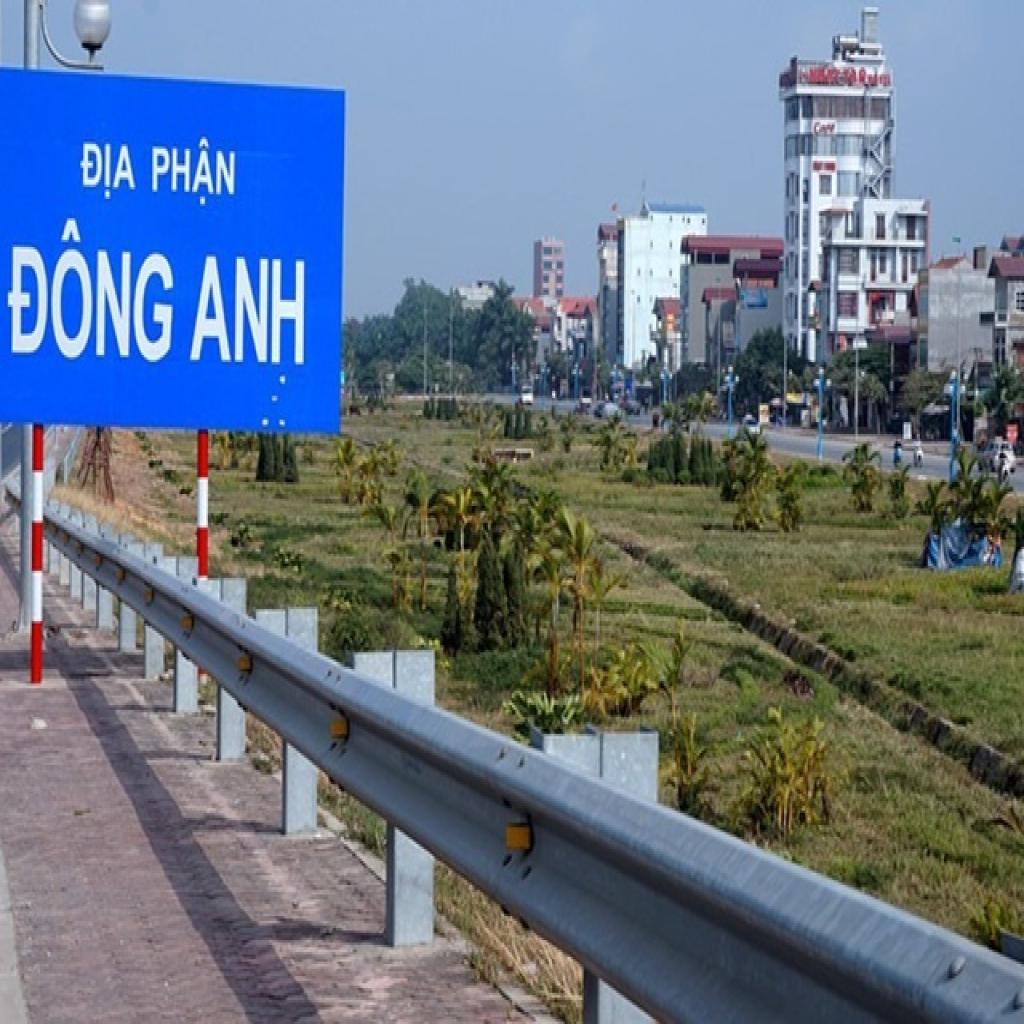text: (2, 216, 179, 369), (186, 247, 310, 372), (147, 134, 242, 211), (77, 139, 144, 204)
